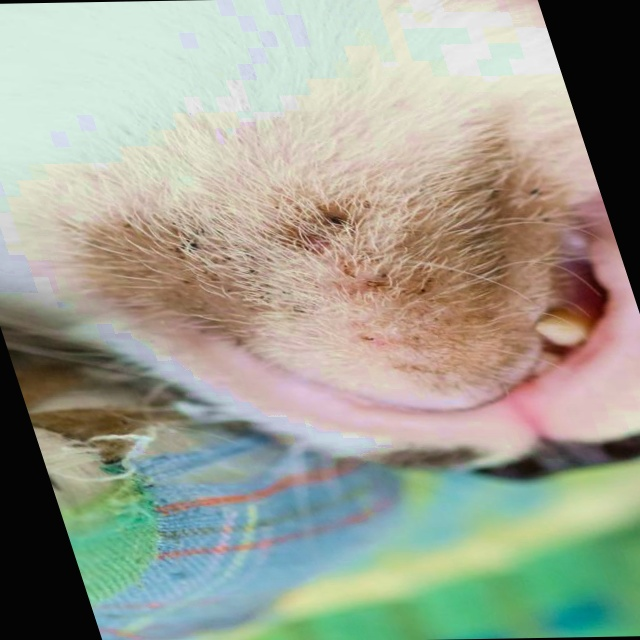acne: (253, 190, 423, 302)
